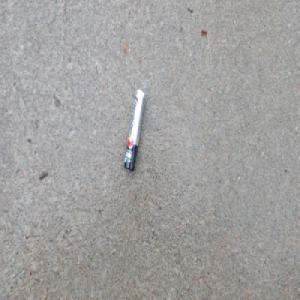Battery: (122, 86, 146, 173)
